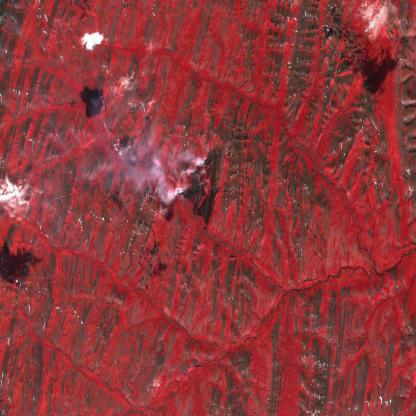fire: (174, 149, 213, 206)
